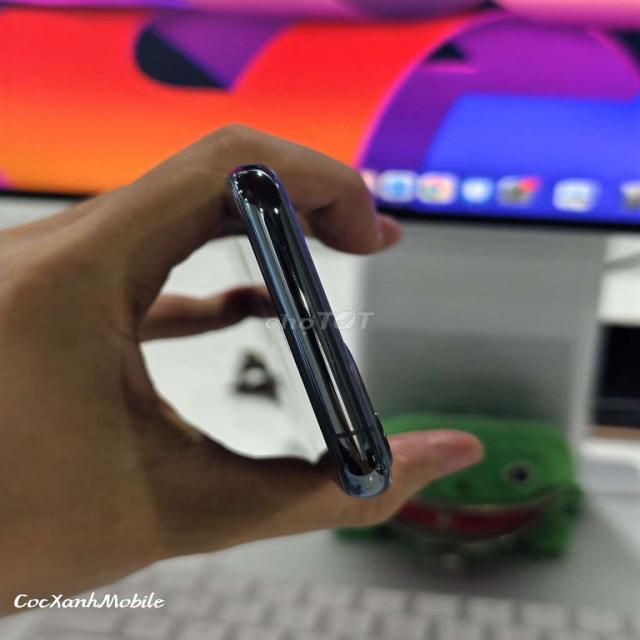gen_11: (215, 160, 407, 506)
